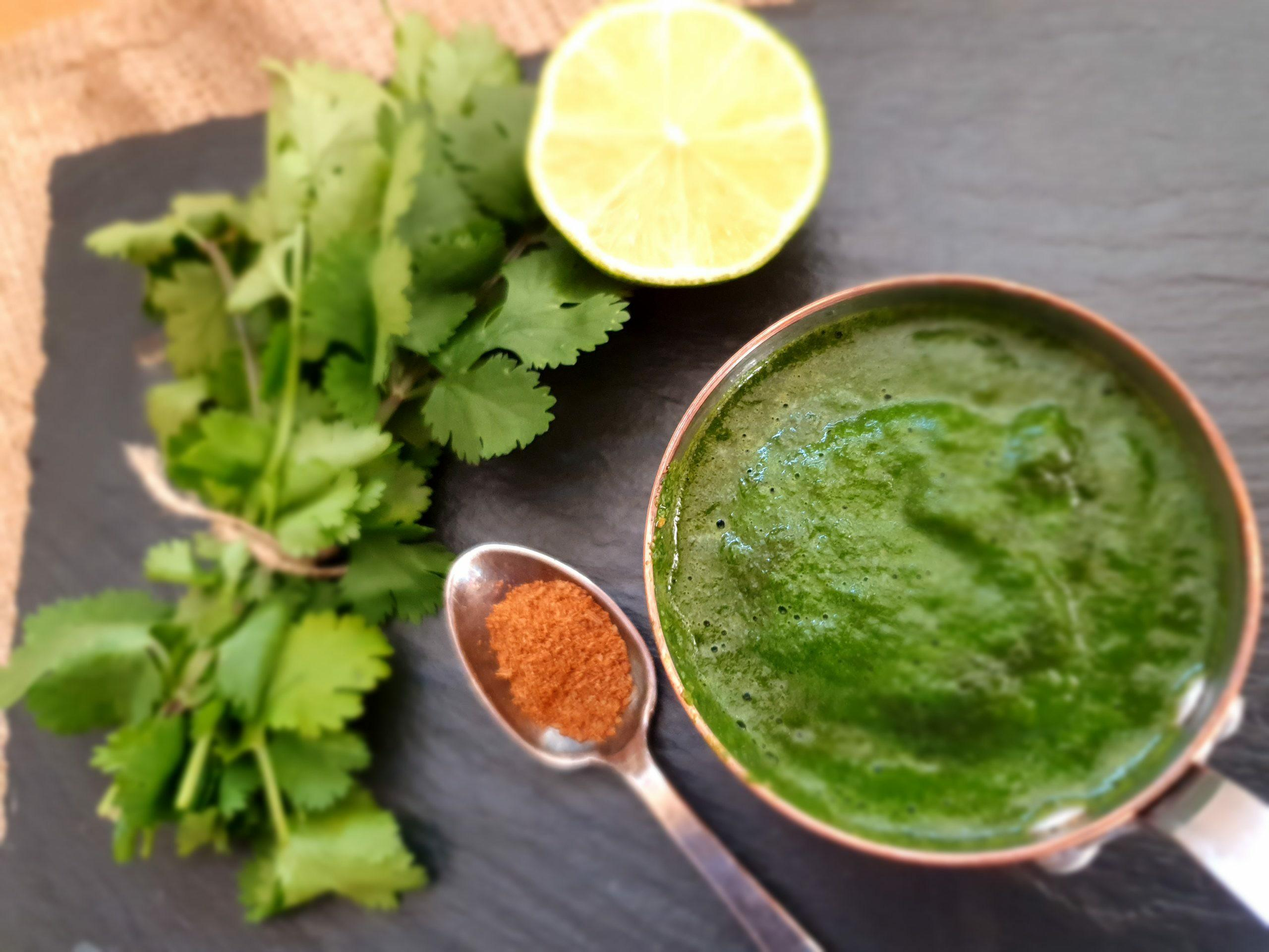GreenChutney: (670, 305, 1223, 848)
